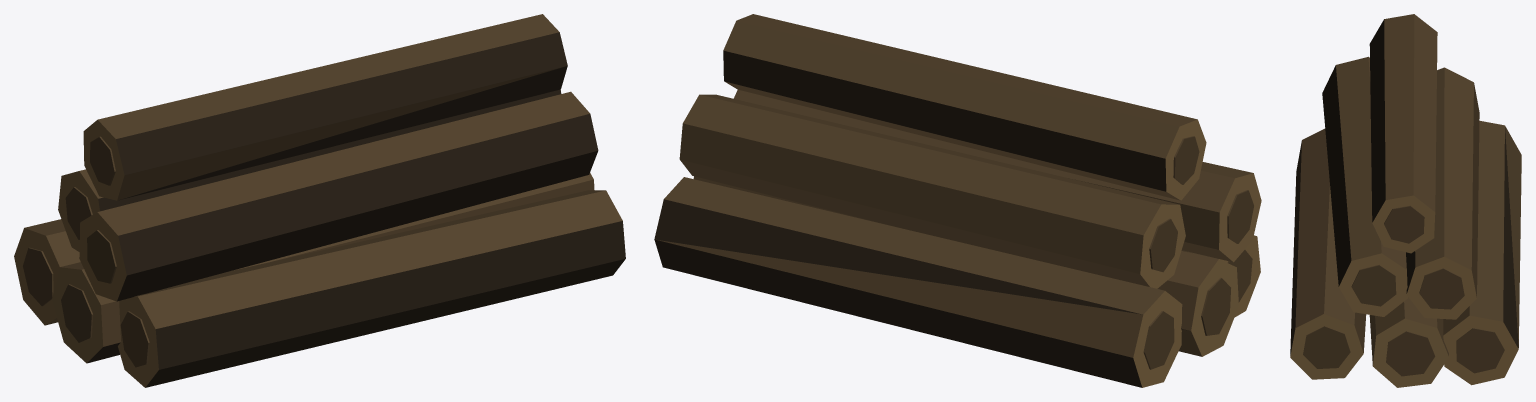
The model's file is hushwood_log_pile.glb.
3 renders of one model, left to right at view 1: azimuth 30°, elevation 25°; view 2: azimuth 150°, elevation 25°; view 3: azimuth 270°, elevation 25°, orthographic. The views are drawn at different scales.
Parts seen in each view (by area): view 1: hushwood_log_pile; view 2: hushwood_log_pile; view 3: hushwood_log_pile.
Part boxes in pixels (<box>): hushwood_log_pile: <box>14,14,625,387</box>; hushwood_log_pile: <box>654,14,1261,387</box>; hushwood_log_pile: <box>1290,14,1521,387</box>.
Bounding box in the file's own units: 2.72 × 1.17 × 1.31.
